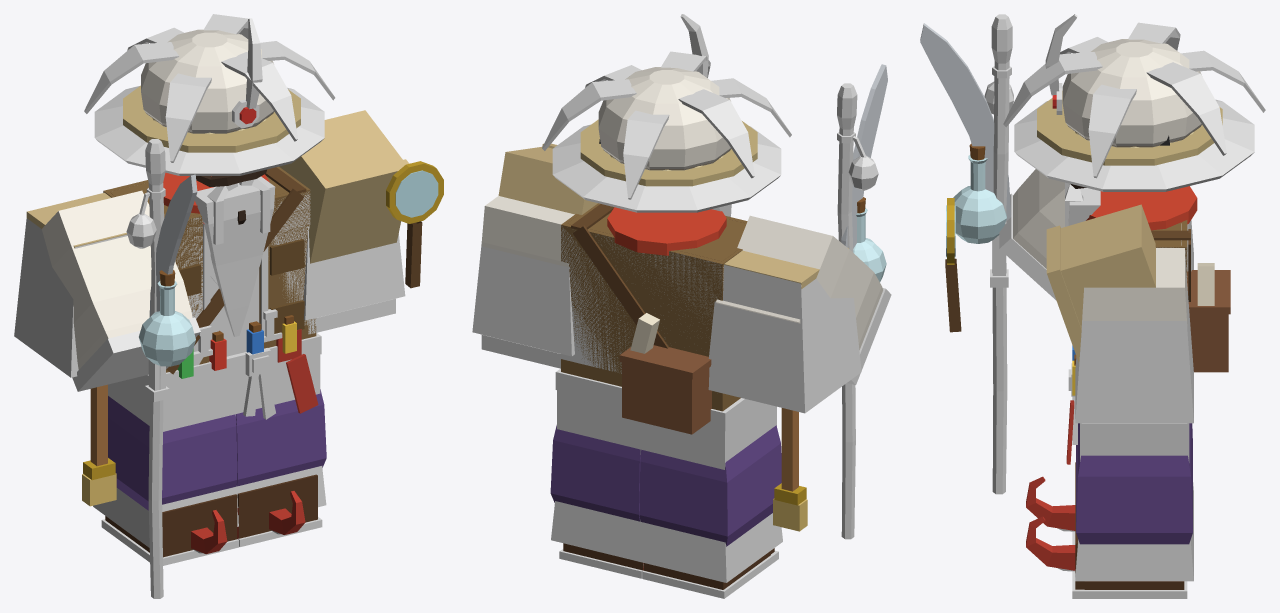
File: w4_keepers.fbx
3 views of the same model, side by side, from view 1: azimuth 30°, elevation 25°; view 2: azimuth 150°, elevation 25°; view 3: azimuth 270°, elevation 25° (orthographic). The views are drawn at different scales.
Parts seen in each view (by area): view 1: ArmsDealerGear.Trousers, ArmsDealerGear.SleeveR, ArchaeologistGear.SleeveL, SenseiOasisGear.Beard, ArmsDealerGear.Turban, SenseiOasisGear.Hat, SenseiOasisGear.SleeveR, SenseiOasisGear.Skirt, SenseiOasisGear.SleeveL, ArchaeologistGear.Boots, ArchaeologistGear.Vest, SenseiOasisGear.Staff (+27 smaller); view 2: ArmsDealerGear.Trousers, SenseiOasisGear.SleeveR, ArchaeologistGear.Vest, SenseiOasisGear.Trousers, SenseiOasisGear.SleeveL, ArmsDealerGear.Turban, SenseiOasisGear.Hat, SenseiOasisGear.Skirt, ArmsDealerGear.SleeveR, ArchaeologistGear.Satchel, SenseiOasisGear.Fronds, ArmsDealerGear.Vest (+20 smaller); view 3: SenseiOasisGear.SleeveL, ArmsDealerGear.Trousers, ArmsDealerGear.Turban, ArchaeologistGear.SleeveL, SenseiOasisGear.Hat, SenseiOasisGear.Staff, SenseiOasisGear.Fronds, ArmsDealerGear.SleeveL, SenseiOasisGear.Trousers, ArmsDealerGear.Blade, ArchaeologistGear.Brim, SenseiOasisGear.FrondsLight (+17 smaller).
Part boxes in pixels (x1,y1,x2,y2): ArmsDealerGear.Trousers: (108, 389, 326, 510); ArmsDealerGear.SleeveR: (42, 190, 192, 369); ArchaeologistGear.SleeveL: (279, 110, 408, 263); SenseiOasisGear.Beard: (195, 176, 275, 336); ArmsDealerGear.Turban: (141, 29, 274, 133); SenseiOasisGear.Hat: (94, 86, 324, 175); SenseiOasisGear.SleeveR: (14, 218, 127, 377); SenseiOasisGear.Skirt: (108, 354, 320, 431); SenseiOasisGear.SleeveL: (303, 230, 405, 320); ArchaeologistGear.Boots: (162, 474, 317, 557); ArchaeologistGear.Vest: (103, 166, 316, 372); SenseiOasisGear.Staff: (145, 139, 165, 598); ArmsDealerGear.Trousers: (550, 425, 781, 546); SenseiOasisGear.SleeveR: (708, 265, 861, 413); ArchaeologistGear.Vest: (561, 203, 747, 411); SenseiOasisGear.Trousers: (551, 501, 782, 582); SenseiOasisGear.SleeveL: (472, 244, 574, 356); ArmsDealerGear.Turban: (598, 67, 731, 170); SenseiOasisGear.Hat: (552, 124, 781, 212); SenseiOasisGear.Skirt: (557, 390, 776, 469); ArmsDealerGear.SleeveR: (716, 215, 882, 350); ArchaeologistGear.Satchel: (619, 345, 711, 434); SenseiOasisGear.Fronds: (542, 51, 754, 178); ArmsDealerGear.Vest: (561, 225, 723, 373); SenseiOasisGear.SleeveL: (1075, 287, 1193, 423); ArmsDealerGear.Trousers: (1076, 423, 1192, 544); ArmsDealerGear.Turban: (1062, 39, 1201, 147); ArchaeologistGear.SleeveL: (1046, 204, 1155, 363); SenseiOasisGear.Hat: (1014, 99, 1254, 191); SenseiOasisGear.Staff: (991, 14, 1012, 494); SenseiOasisGear.Fronds: (1003, 22, 1226, 155); ArmsDealerGear.SleeveL: (1081, 245, 1187, 327); SenseiOasisGear.Trousers: (1075, 482, 1193, 581); ArmsDealerGear.Blade: (920, 23, 1011, 221); ArchaeologistGear.Brim: (1037, 91, 1222, 165); SenseiOasisGear.FrondsLight: (1060, 37, 1265, 178).
Size of the model in its own units: 4.28 by 6.42 by 3.67.
